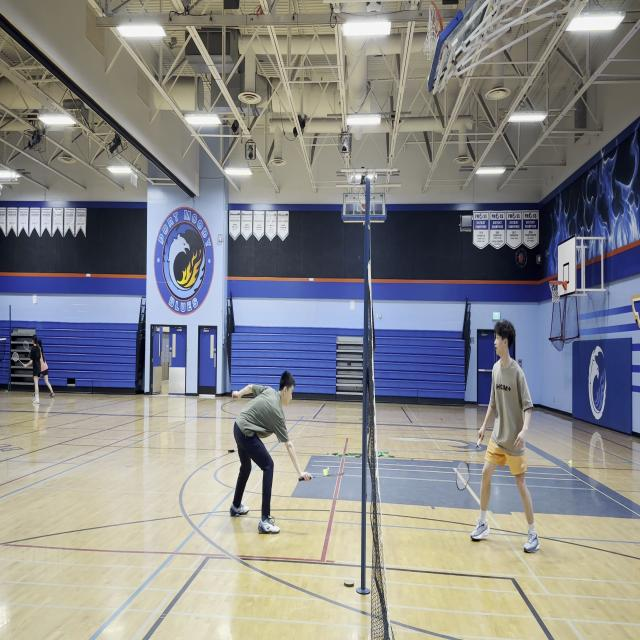shuttlecock: (323, 466, 329, 477)
